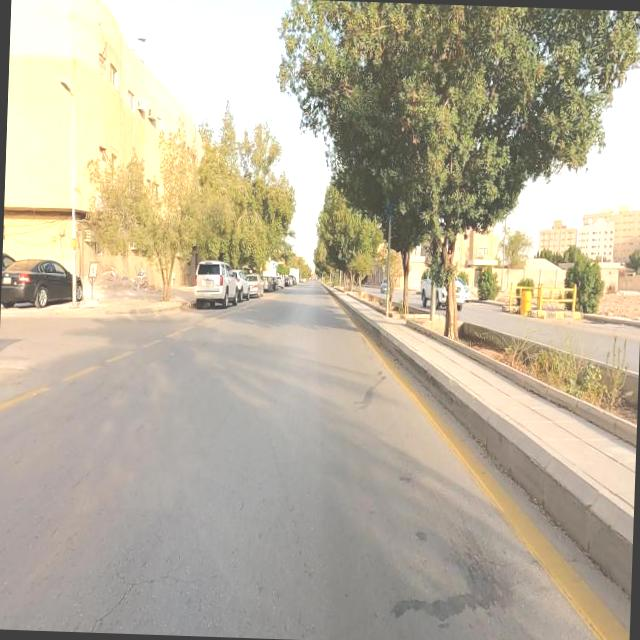debris: (506, 260, 546, 338)
